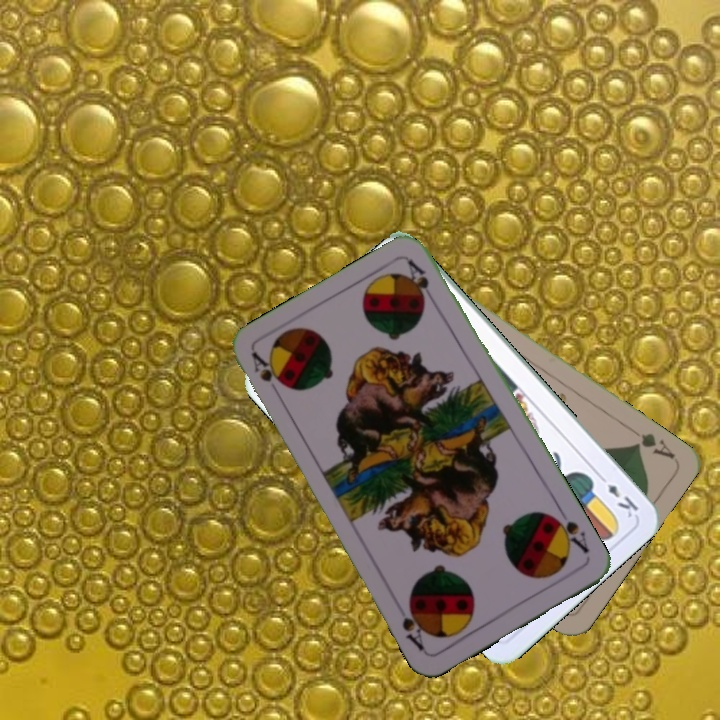EK: (593, 469, 641, 521)
GA: (629, 429, 678, 462)
SA: (547, 505, 592, 556), (247, 348, 286, 390)
